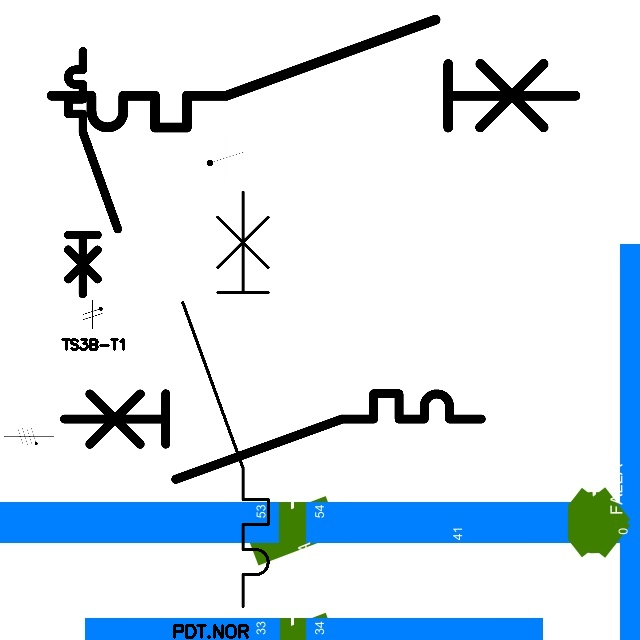interruptor_termomagnetico: (38, 6, 589, 141), (53, 383, 491, 490), (172, 181, 279, 617), (62, 45, 124, 300)
